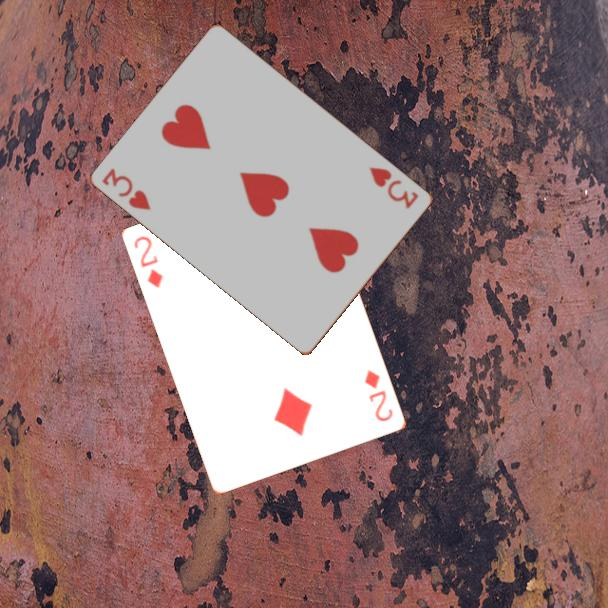d02: (131, 232, 167, 291), (361, 366, 396, 425)
h03: (366, 163, 422, 212), (99, 164, 154, 213)
